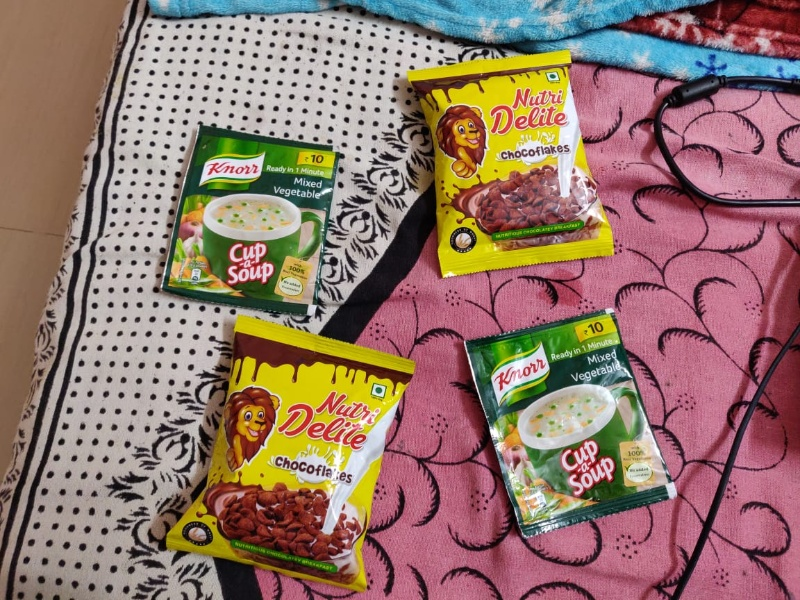Knorr_Cup_Soup: (470, 315, 670, 531), (158, 119, 335, 320)
nutriDelite: (194, 320, 399, 600), (411, 60, 619, 269)
